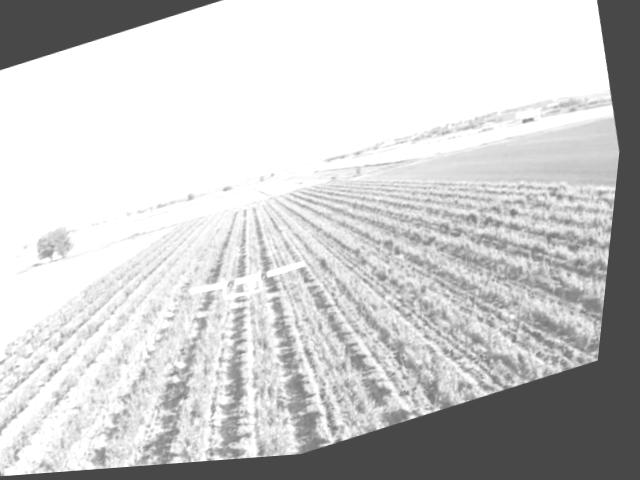hedef: (189, 248, 322, 326)
